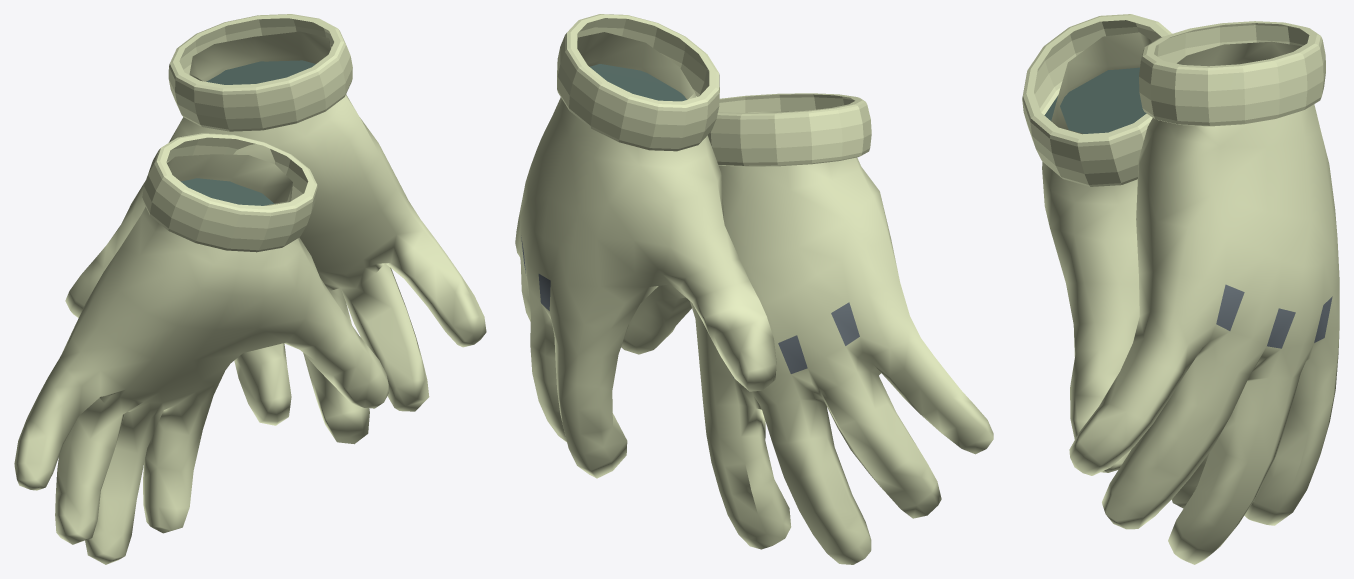
File: Booster_gloves.fbx
The picture shows the model from 3 angles, left to right: view 1: azimuth 30°, elevation 25°; view 2: azimuth 150°, elevation 25°; view 3: azimuth 270°, elevation 25°; orthographic projection. The views are drawn at different scales.
Parts seen in each view (by area): view 1: glove_mesh; view 2: glove_mesh; view 3: glove_mesh.
Part boxes in pixels (x1,y1,x2,y2): glove_mesh: [14, 14, 486, 564]; glove_mesh: [515, 14, 993, 564]; glove_mesh: [1022, 14, 1339, 564].
Size of the model in its own units: 100 by 98.13 by 51.04.
Materials: 1 (1 with a texture image).
